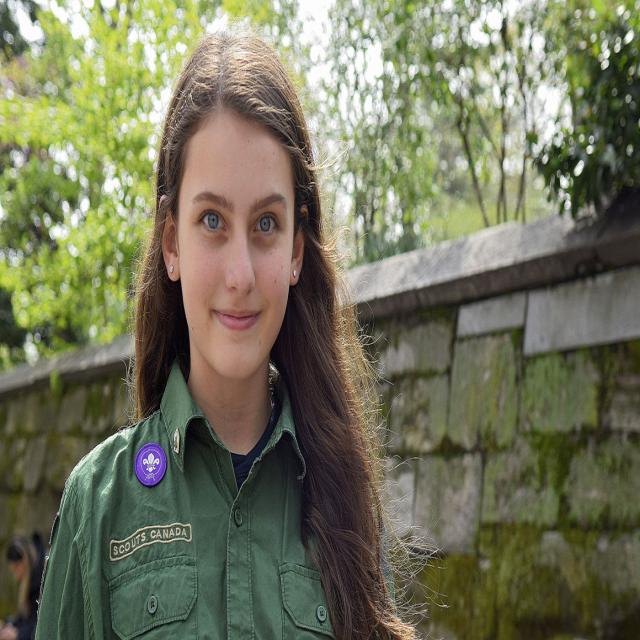human: (31, 19, 414, 640)
